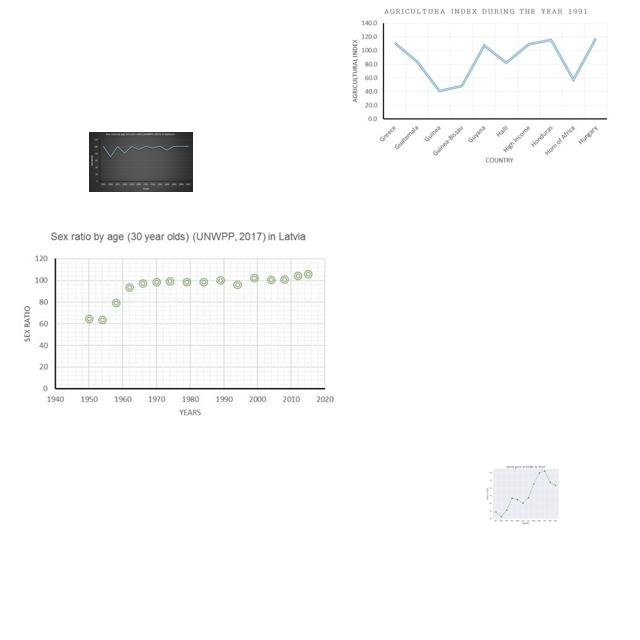Graph: (14, 227, 337, 418), (348, 4, 612, 164), (89, 132, 193, 192), (477, 461, 572, 526)
